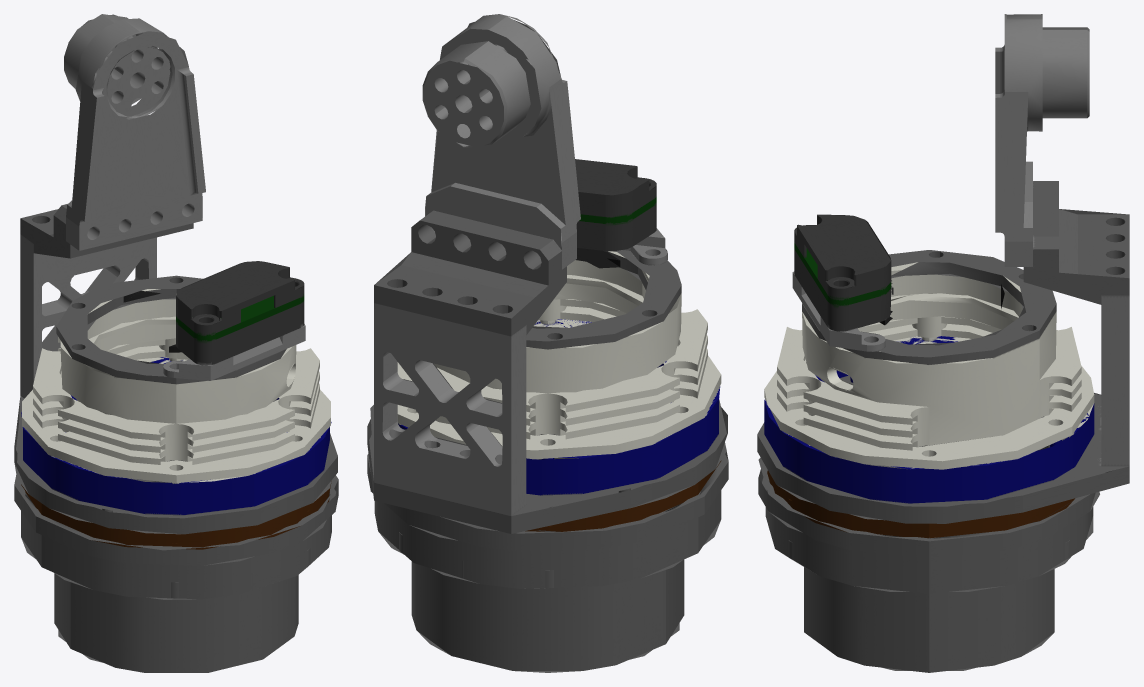
File: arml_sho3_joint.obj
3 views of the same model, side by side, from view 1: azimuth 30°, elevation 25°; view 2: azimuth 150°, elevation 25°; view 3: azimuth 270°, elevation 25° (orthographic). The views are drawn at different scales.
Bounding box in the file's own units: 0.073 × 0.1401 × 0.079.
1 material, 1 textured.
